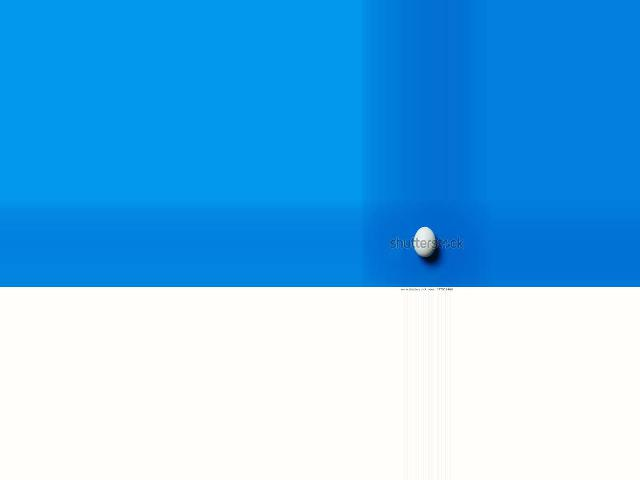egg: (414, 226, 436, 257)
